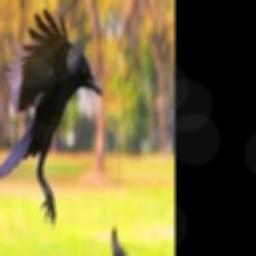Crow: (0, 9, 102, 230)
